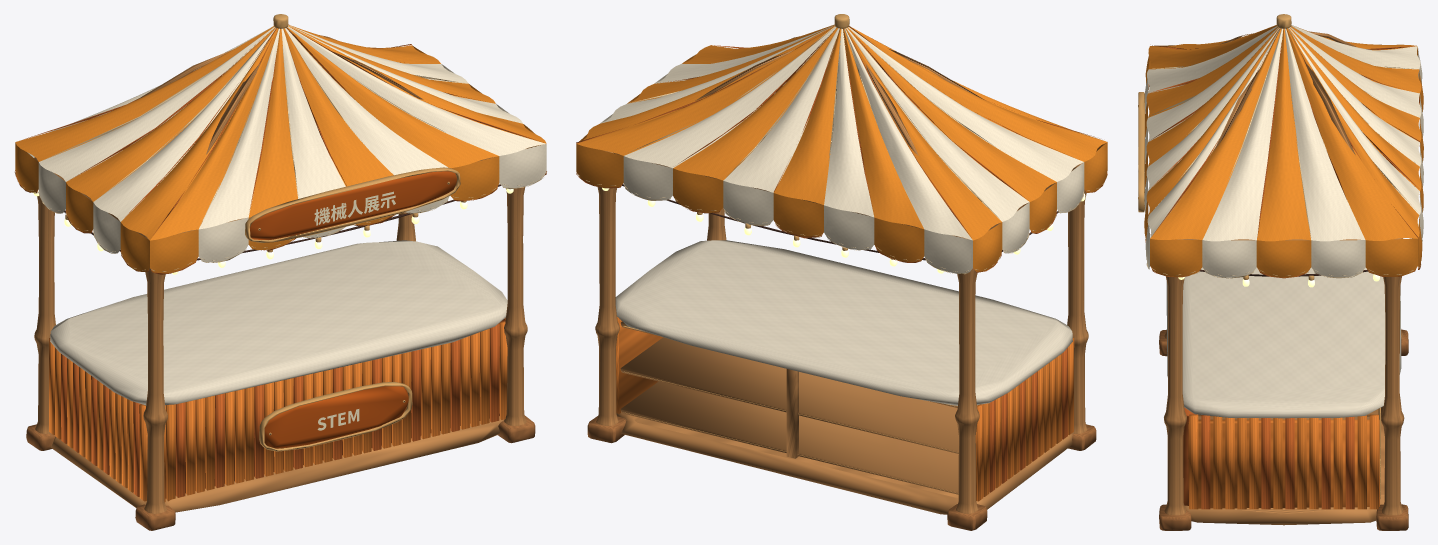
The model's file is robotics-booth.glb.
The picture shows the model from 3 angles, left to right: view 1: azimuth 30°, elevation 25°; view 2: azimuth 150°, elevation 25°; view 3: azimuth 270°, elevation 25°; orthographic projection.
Parts seen in each view (by area): view 1: Compact terrazzo counter · continuous roundover, Scalloped full-weight valance with rounded fold, Scalloped full-weight valance with rounded fold.001, Counter base with rounded outer molding, Curved side cabinet stave, Curved side cabinet stave.001, Colored stove-enamel backing plate, Curved side cabinet stave.002, Brass joinery band, Scallop rolled and bound hem, Individual decorative saddle stitch, Rounded pocket housing for column (+1 smaller); view 2: Counter base with rounded outer molding, Scalloped full-weight valance with rounded fold, Compact terrazzo counter · continuous roundover, Scalloped full-weight valance with rounded fold.001, Curved side cabinet stave, Curved side cabinet stave.002, Curved side cabinet stave.001, Scallop rolled and bound hem, Rounded pocket housing for column, Individual decorative saddle stitch, Brass joinery band; view 3: Scalloped full-weight valance with rounded fold, Scalloped full-weight valance with rounded fold.001, Compact terrazzo counter · continuous roundover, Counter base with rounded outer molding, Curved side cabinet stave, Curved side cabinet stave.001, Curved side cabinet stave.002, Rounded pocket housing for column, Scallop rolled and bound hem, Brass joinery band, Individual decorative saddle stitch.
Part boxes in pixels (x1=…): Compact terrazzo counter · continuous roundover: x1=50, y1=240, x2=507, y2=405; Scalloped full-weight valance with rounded fold: x1=15, y1=24, x2=546, y2=273; Scalloped full-weight valance with rounded fold.001: x1=27, y1=25, x2=546, y2=262; Counter base with rounded outer molding: x1=34, y1=35, x2=527, y2=513; Curved side cabinet stave: x1=49, y1=318, x2=507, y2=501; Curved side cabinet stave.001: x1=61, y1=318, x2=505, y2=498; Colored stove-enamel backing plate: x1=250, y1=171, x2=456, y2=448; Curved side cabinet stave.002: x1=55, y1=328, x2=489, y2=501; Brass joinery band: x1=65, y1=14, x2=466, y2=451; Scallop rolled and bound hem: x1=15, y1=27, x2=546, y2=274; Individual decorative saddle stitch: x1=14, y1=25, x2=543, y2=271; Rounded pocket housing for column: x1=26, y1=416, x2=535, y2=530; Counter base with rounded outer molding: x1=595, y1=37, x2=1088, y2=514; Scalloped full-weight valance with rounded fold: x1=576, y1=24, x2=1107, y2=271; Compact terrazzo counter · continuous roundover: x1=615, y1=240, x2=1072, y2=405; Scalloped full-weight valance with rounded fold.001: x1=600, y1=25, x2=1084, y2=273; Curved side cabinet stave: x1=616, y1=317, x2=1074, y2=501; Curved side cabinet stave.002: x1=617, y1=317, x2=1061, y2=496; Curved side cabinet stave.001: x1=989, y1=347, x2=1067, y2=492; Scallop rolled and bound hem: x1=576, y1=26, x2=1107, y2=272; Rounded pocket housing for column: x1=587, y1=416, x2=1096, y2=530; Individual decorative saddle stitch: x1=576, y1=26, x2=1107, y2=274; Brass joinery band: x1=623, y1=14, x2=1084, y2=493; Scalloped full-weight valance with rounded fold: x1=1144, y1=25, x2=1423, y2=277; Scalloped full-weight valance with rounded fold.001: x1=1144, y1=25, x2=1423, y2=277; Compact terrazzo counter · continuous roundover: x1=1166, y1=267, x2=1401, y2=418; Counter base with rounded outer molding: x1=1164, y1=31, x2=1404, y2=525; Curved side cabinet stave: x1=1188, y1=414, x2=1379, y2=509; Curved side cabinet stave.001: x1=1183, y1=407, x2=1354, y2=509; Curved side cabinet stave.002: x1=1213, y1=415, x2=1366, y2=509; Rounded pocket housing for column: x1=1159, y1=329, x2=1408, y2=530; Scallop rolled and bound hem: x1=1145, y1=40, x2=1420, y2=278; Brass joinery band: x1=1138, y1=14, x2=1413, y2=498; Individual decorative saddle stitch: x1=1145, y1=25, x2=1422, y2=278.
Bounding box in the file's own units: 3.17 × 3.09 × 1.91.
15 materials, 8 textured.
